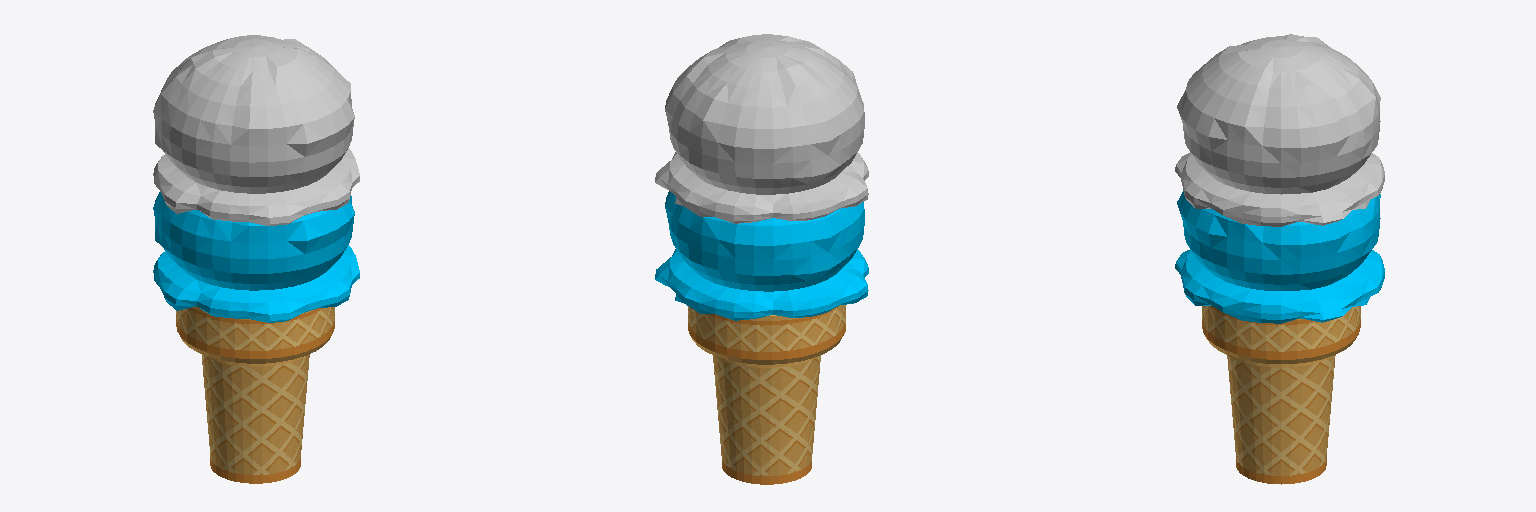
3 views of the same model, side by side, from view 1: azimuth 30°, elevation 25°; view 2: azimuth 150°, elevation 25°; view 3: azimuth 270°, elevation 25° (orthographic).
Visible parts, largest first — view 1: Sphere.001, Sphere, Cylinder; view 2: Sphere.001, Sphere, Cylinder; view 3: Sphere.001, Sphere, Cylinder.
Boxes of the visible parts, <box> form: Sphere.001: <box>153,35,359,225</box>; Sphere: <box>153,192,359,322</box>; Cylinder: <box>176,306,334,483</box>; Sphere.001: <box>655,34,868,223</box>; Sphere: <box>655,191,868,320</box>; Cylinder: <box>688,305,845,484</box>; Sphere.001: <box>1175,34,1384,226</box>; Sphere: <box>1175,191,1384,323</box>; Cylinder: <box>1202,306,1360,484</box>.
Size of the model in its own units: 3.79 by 8.34 by 3.8.
Materials: 3 (2 with a texture image).